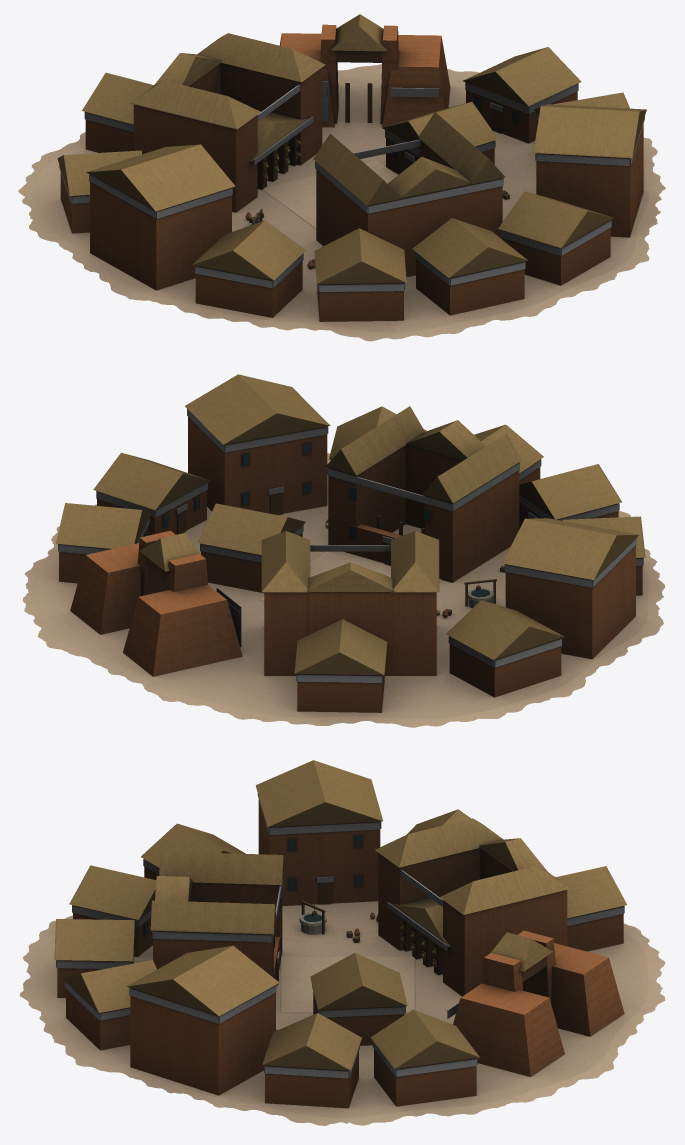
File: classical-town-medium-a-westafrica-8df5c3ab.glb
3 renders of one model, top to bottom at view 1: azimuth 30°, elevation 25°; view 2: azimuth 150°, elevation 25°; view 3: azimuth 270°, elevation 25°, orthographic.
Parts seen in each view (by area): view 1: LOD0; view 2: LOD0; view 3: LOD0.
Part boxes in pixels (bbox=[...]): LOD0: bbox=[18, 14, 665, 341]; LOD0: bbox=[22, 374, 664, 727]; LOD0: bbox=[19, 760, 665, 1125].
Size of what is drawn, in the model's own units: 5.96 by 1.07 by 5.91.
3 materials, 3 textured.
